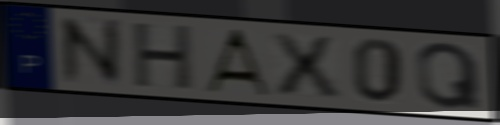0: (350, 36, 404, 105)
A: (200, 27, 274, 98)
H: (132, 21, 195, 93)
N: (56, 14, 128, 87)
Q: (414, 40, 485, 111)
X: (267, 31, 345, 99)
